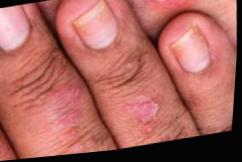plaque psoriasis: (43, 76, 94, 150), (125, 86, 175, 136), (128, 0, 203, 20)
